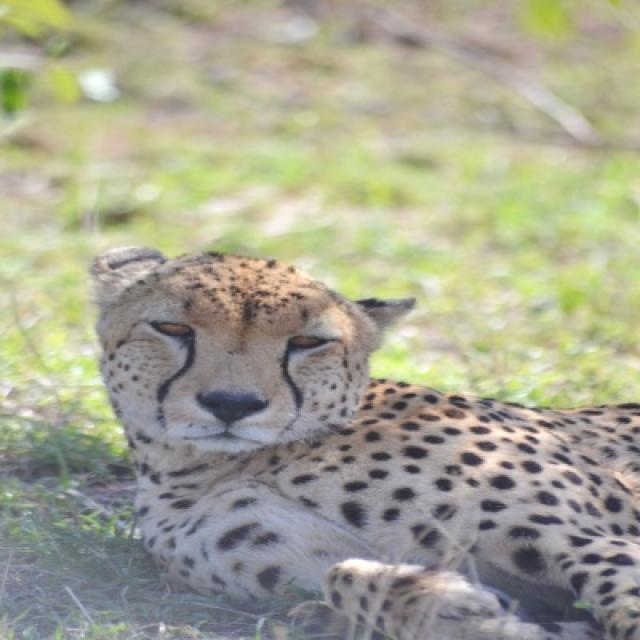Cheetah: (86, 245, 638, 638)
